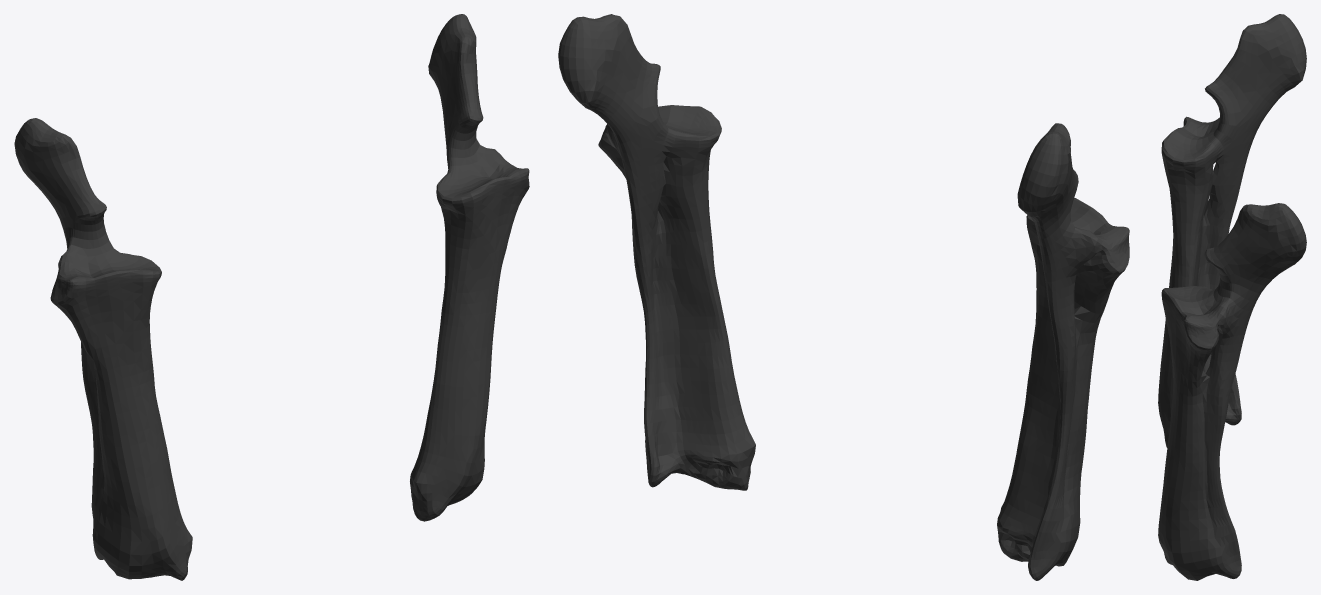
The model's file is b_radius_ulna_L_LO.glb.
The picture shows the model from 3 angles, left to right: view 1: azimuth 30°, elevation 25°; view 2: azimuth 150°, elevation 25°; view 3: azimuth 270°, elevation 25°; orthographic projection. The views are drawn at different scales.
Visible parts, largest first — view 1: b_radius_ulna_L_LO; view 2: b_radius_ulna_L_LO; view 3: b_radius_ulna_L_LO.
Boxes of the visible parts, x1,y1,x2,y2 form: b_radius_ulna_L_LO: (14, 14, 529, 580); b_radius_ulna_L_LO: (558, 14, 1129, 580); b_radius_ulna_L_LO: (1158, 14, 1306, 580).
Size of the model in its own units: 0.00427 by 0.00383 by 0.00128.
Materials: 1 (1 with a texture image).
